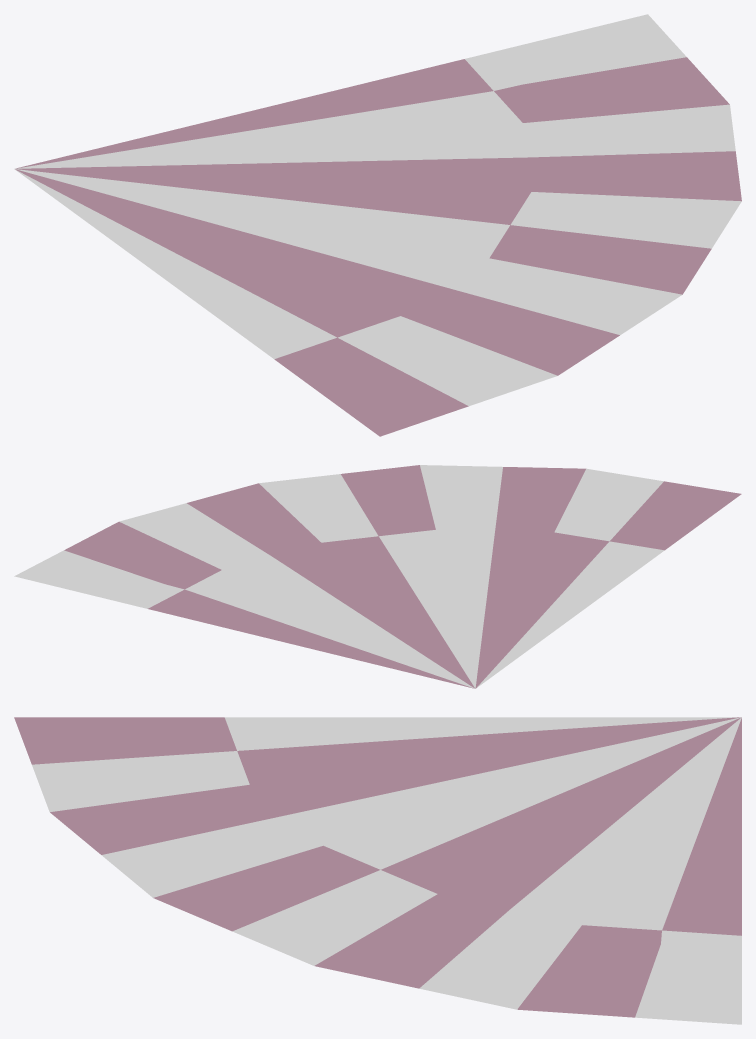
The model's file is carp.fbx.
3 views of the same model, one above another, from view 1: azimuth 30°, elevation 25°; view 2: azimuth 150°, elevation 25°; view 3: azimuth 270°, elevation 25° (orthographic). The views are drawn at different scales.
Visible parts, largest first — view 1: pCone1; view 2: pCone1; view 3: pCone1.
Boxes of the visible parts, x1=… form: pCone1: x1=14, y1=14, x2=741, y2=436; pCone1: x1=14, y1=465, x2=741, y2=688; pCone1: x1=14, y1=717, x2=741, y2=1024.
Bounding box in the file's own units: 1.41 × 1.6e-07 × 1.41.
